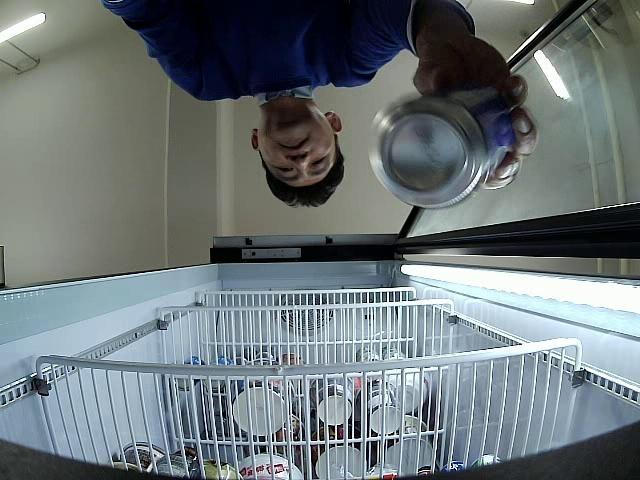13_pocariSweat: (368, 78, 520, 208)
